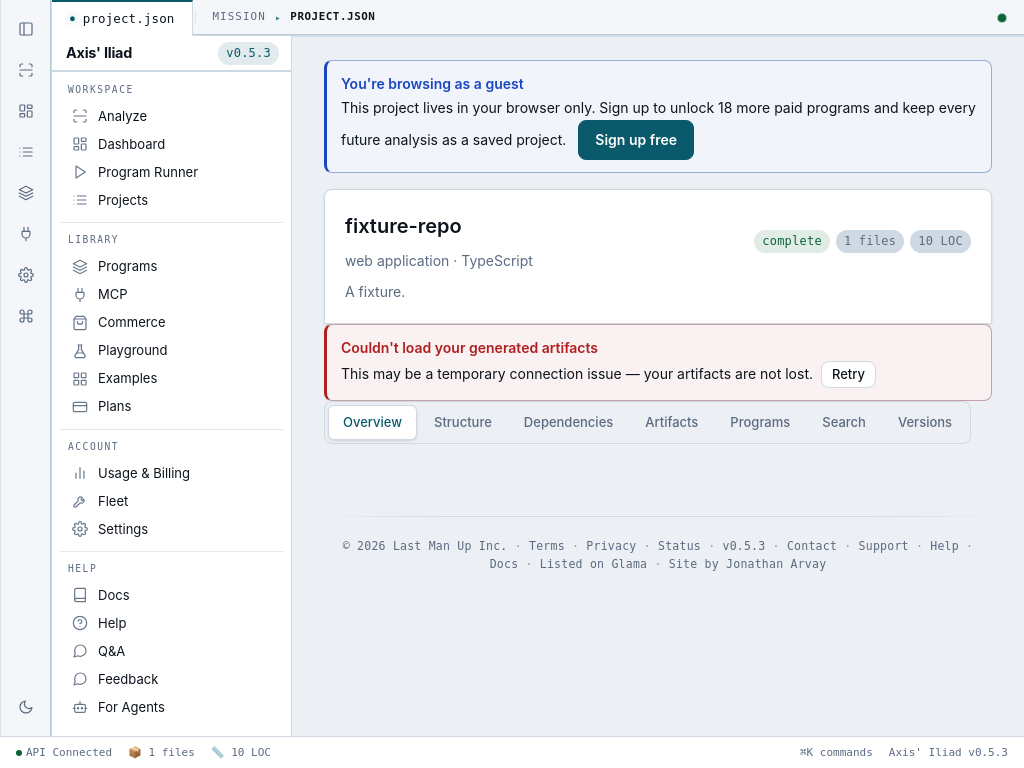
ProjectPage honest error state on generated-files load failure (H2.6, WAVE-0 finding #8) › Retry re-fetches and clears the error once the endpoint recovers
Expected: the heading "fixture-repo" is shown, [345,214,462,238]
Expected: the text "Couldn't load your generated artifacts" is shown, [341,339,598,356]
Click the button "Retry": (848, 375) [821,361,876,388]
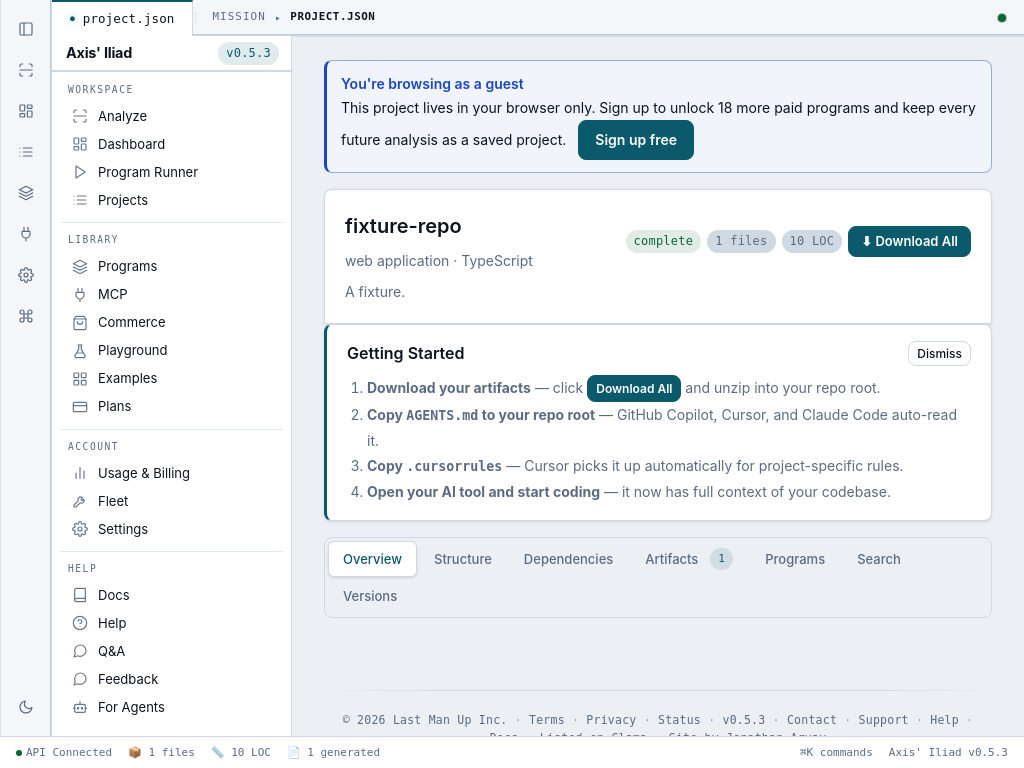
Result: the text "Couldn't load your generated artifacts" is gone
